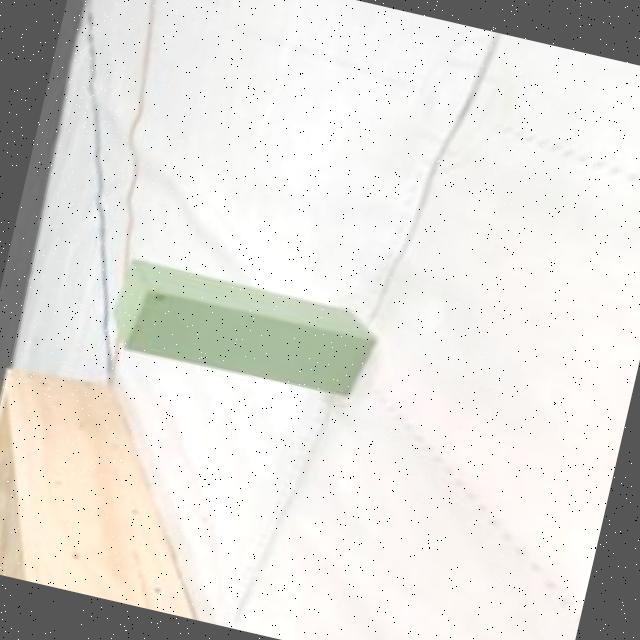greenbox: (102, 254, 384, 408)
